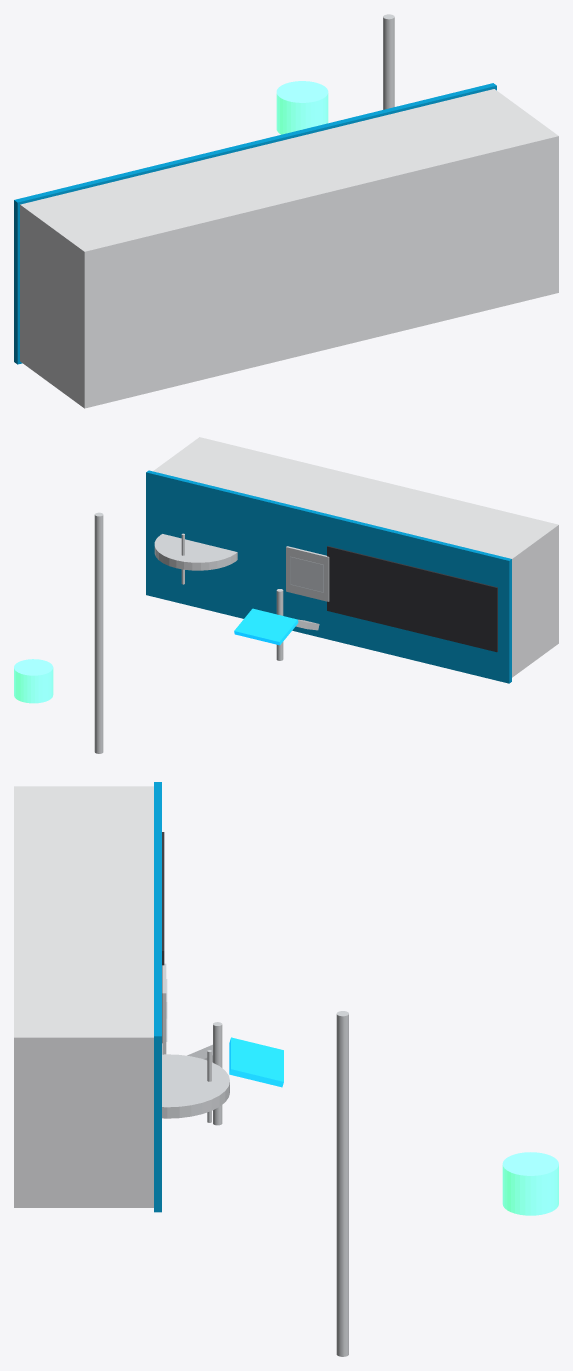
File: checkout_lane.glb
3 views of the same model, one above another, from view 1: azimuth 30°, elevation 25°; view 2: azimuth 150°, elevation 25°; view 3: azimuth 270°, elevation 25° (orthographic). The views are drawn at different scales.
Visible parts, largest first — view 1: Cube, Cube.001, Cylinder.004, Cylinder.003; view 2: Cube.001, Cube, Cube.002, Cylinder.003, Cylinder.001, Cube.003, Cylinder.004, Cube.005, Cube.004; view 3: Cube, Cylinder.003, Cylinder.001, Cube.001, Cylinder.004, Cube.005.
Part boxes in pixels (box(x1,y1,x2,y2)): Cube: box(20, 89, 558, 408); Cube.001: box(14, 83, 496, 364); Cylinder.004: box(276, 81, 328, 134); Cylinder.003: box(383, 14, 394, 109); Cube.001: box(146, 470, 511, 683); Cube: box(153, 437, 558, 677); Cube.002: box(327, 546, 497, 652); Cylinder.003: box(94, 512, 103, 753); Cylinder.001: box(154, 534, 237, 570); Cube.003: box(286, 546, 329, 601); Cylinder.004: box(14, 659, 53, 703); Cube.005: box(234, 608, 298, 645); Cube.004: box(290, 557, 323, 592); Cube: box(14, 786, 153, 1207); Cylinder.003: box(336, 1011, 348, 1356); Cylinder.001: box(162, 1054, 229, 1118); Cube.001: box(154, 782, 161, 1212); Cylinder.004: box(502, 1152, 558, 1215); Cube.005: box(229, 1037, 283, 1087).
Size of the model in its own units: 3.85 by 2.4 by 3.48.
